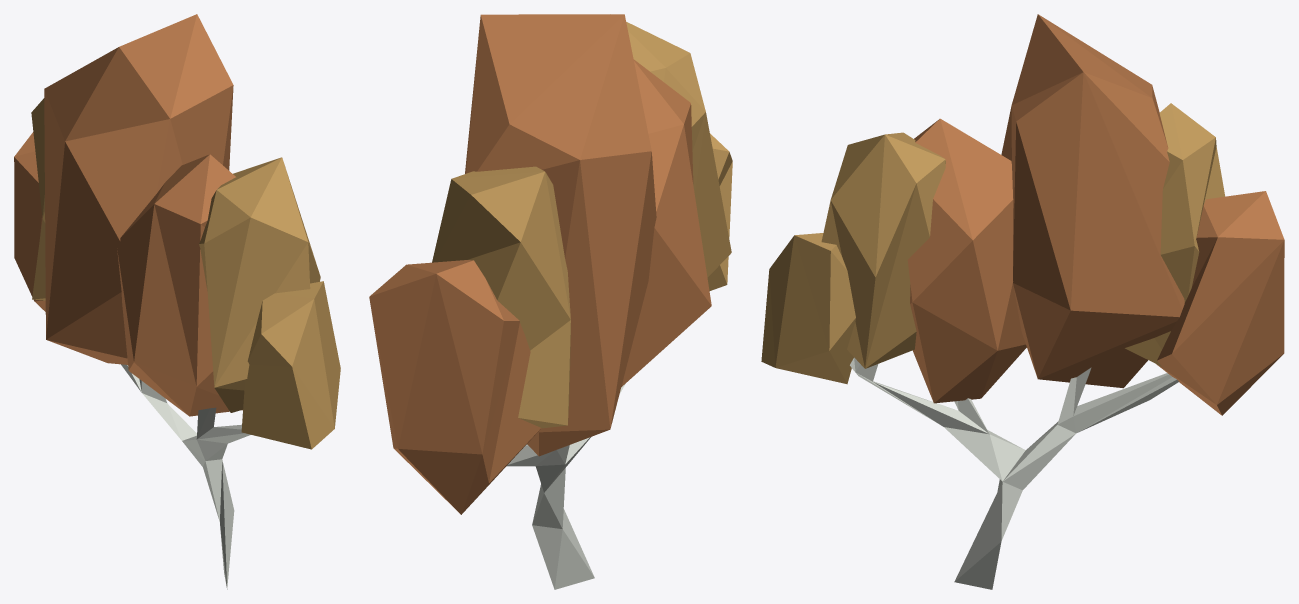
The model's file is BirchTree_Autumn_4.lod3.glb.
The picture shows the model from 3 angles, left to right: view 1: azimuth 30°, elevation 25°; view 2: azimuth 150°, elevation 25°; view 3: azimuth 270°, elevation 25°; orthographic projection. The views are drawn at different scales.
Visible parts, largest first — view 1: BirchTree_Autumn_4; view 2: BirchTree_Autumn_4; view 3: BirchTree_Autumn_4.
Part boxes in pixels (box(x1,y1,x2,y2)): BirchTree_Autumn_4: box(14, 14, 340, 589); BirchTree_Autumn_4: box(369, 14, 732, 589); BirchTree_Autumn_4: box(761, 14, 1284, 589).
Size of the model in its own units: 1.15 by 3.59 by 3.18.
